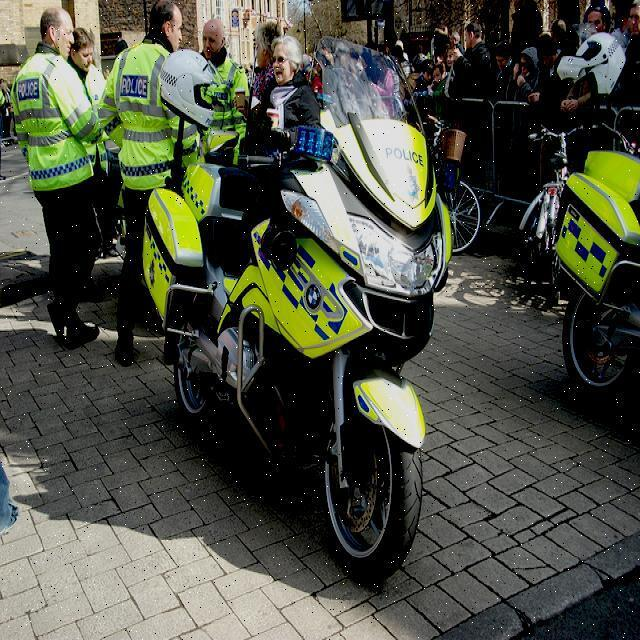motorcycle: (135, 51, 458, 582)
